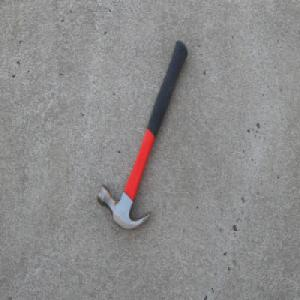Hammer: (96, 38, 188, 232)
